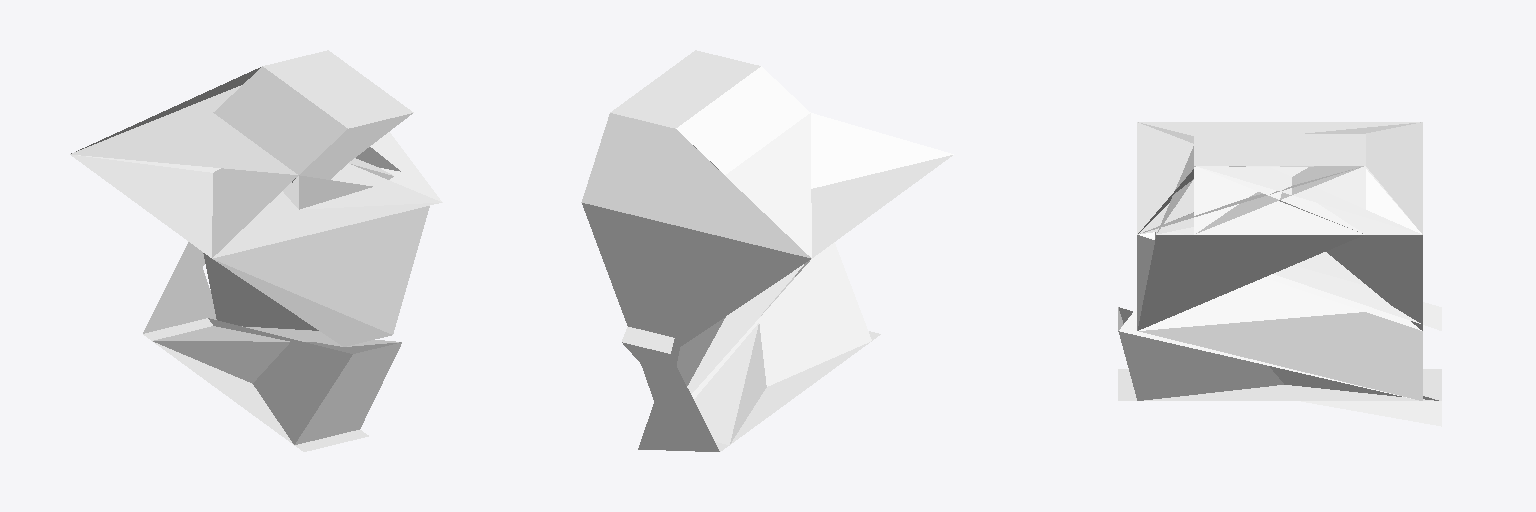
File: truck-head-blue.obj
3 views of the same model, side by side, from view 1: azimuth 30°, elevation 25°; view 2: azimuth 150°, elevation 25°; view 3: azimuth 270°, elevation 25° (orthographic).
Size of the model in its own units: 14 by 17 by 17.